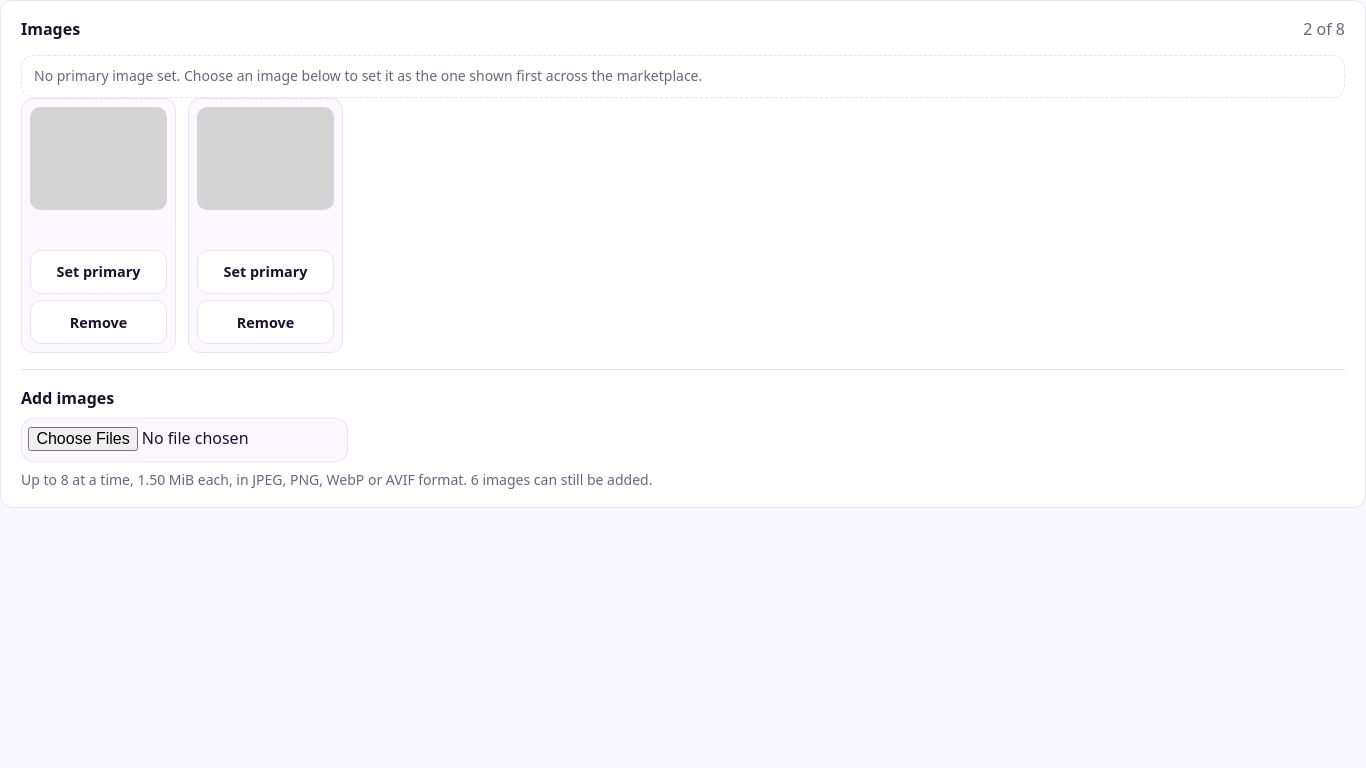
ProductImageManager › error handling › does not claim success when the write landed but the re-read failed
This screenshot has width=1366, height=768.
Click the 1st button "Remove" at (98, 322), box x1=30 y1=300 x2=167 y2=344
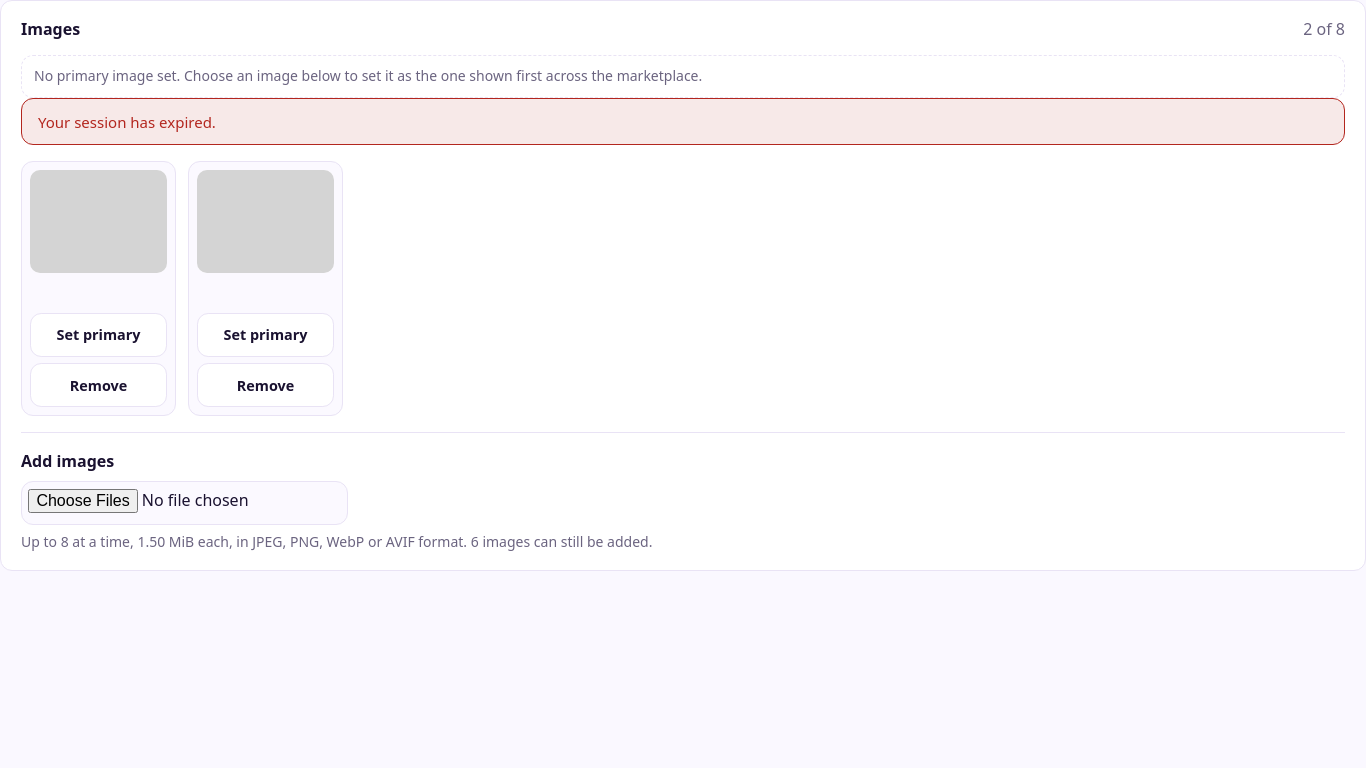
Expected: the message "Your session has expired." is shown, x1=21 y1=98 x2=1345 y2=145
